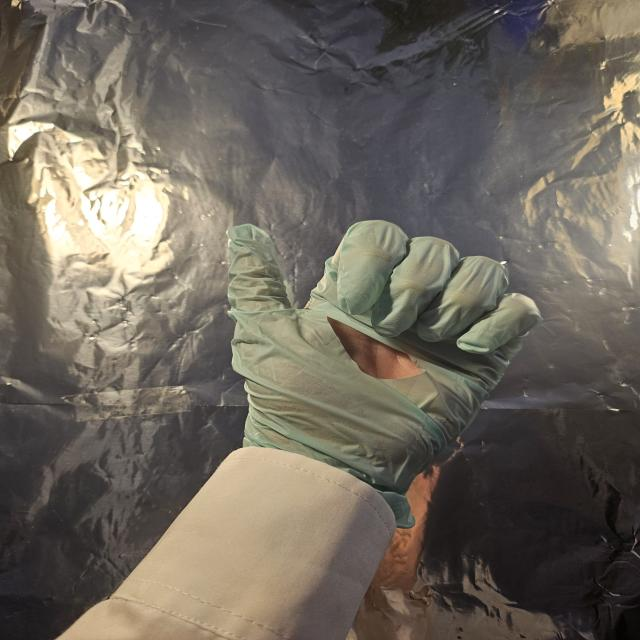gloves_damaged: (221, 218, 543, 500)
